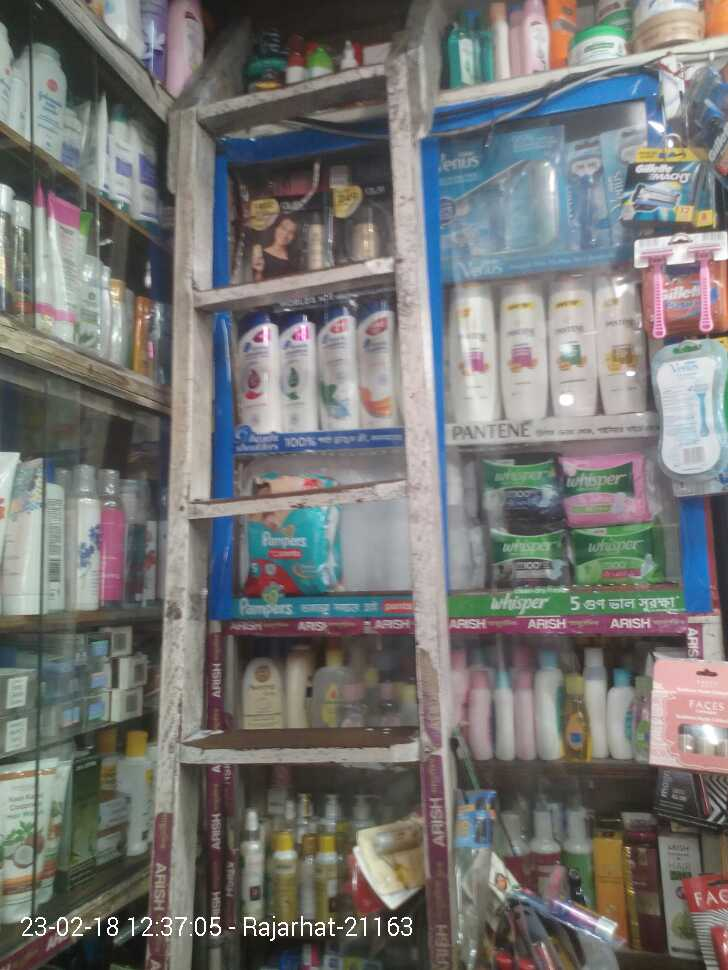gillete: (627, 148, 715, 231), (691, 79, 728, 148)
venus: (440, 123, 556, 260), (652, 340, 728, 475), (638, 241, 728, 340), (564, 135, 601, 246), (602, 131, 626, 244)
